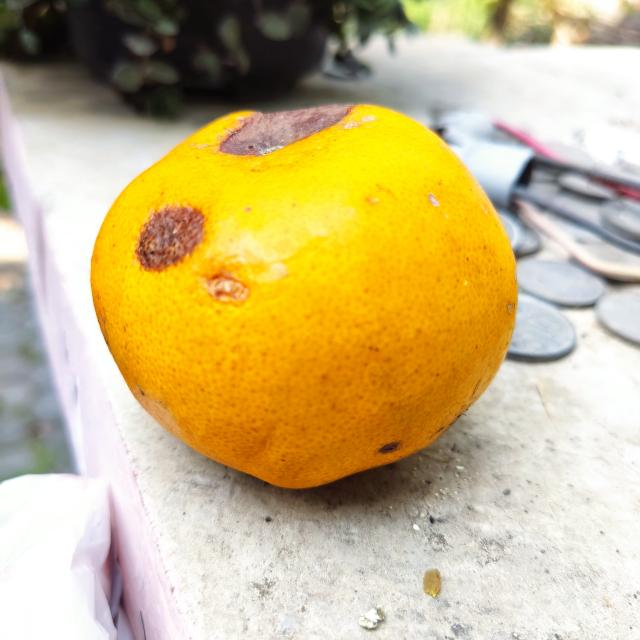orange: (86, 105, 522, 491)
